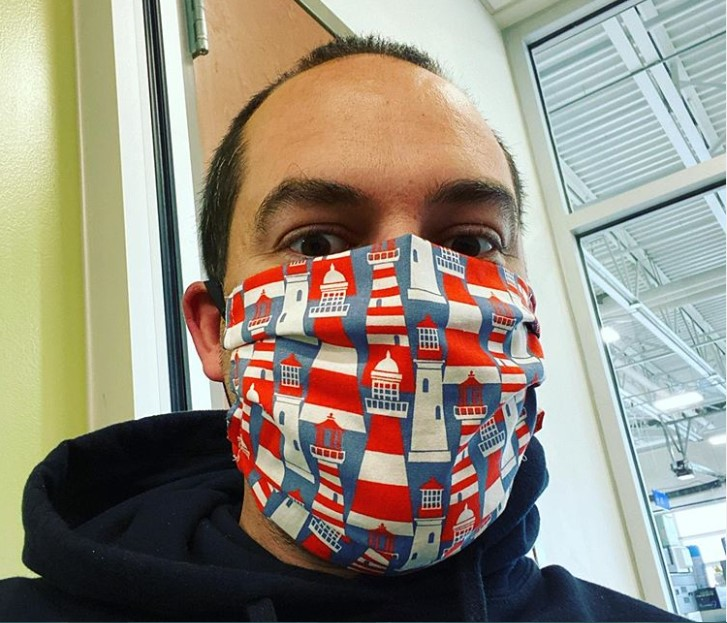face_with_mask: (181, 31, 548, 582)
